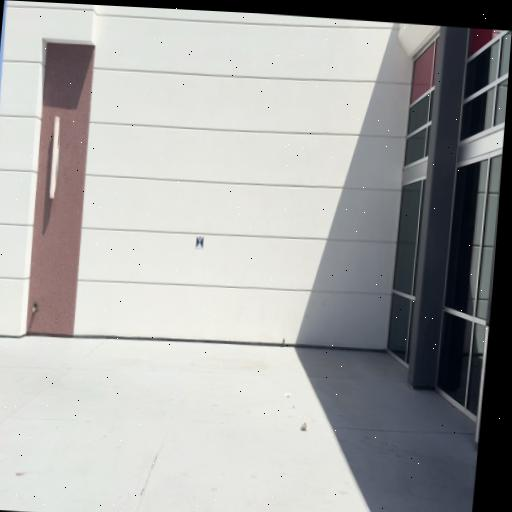target0: (196, 235, 204, 248)
